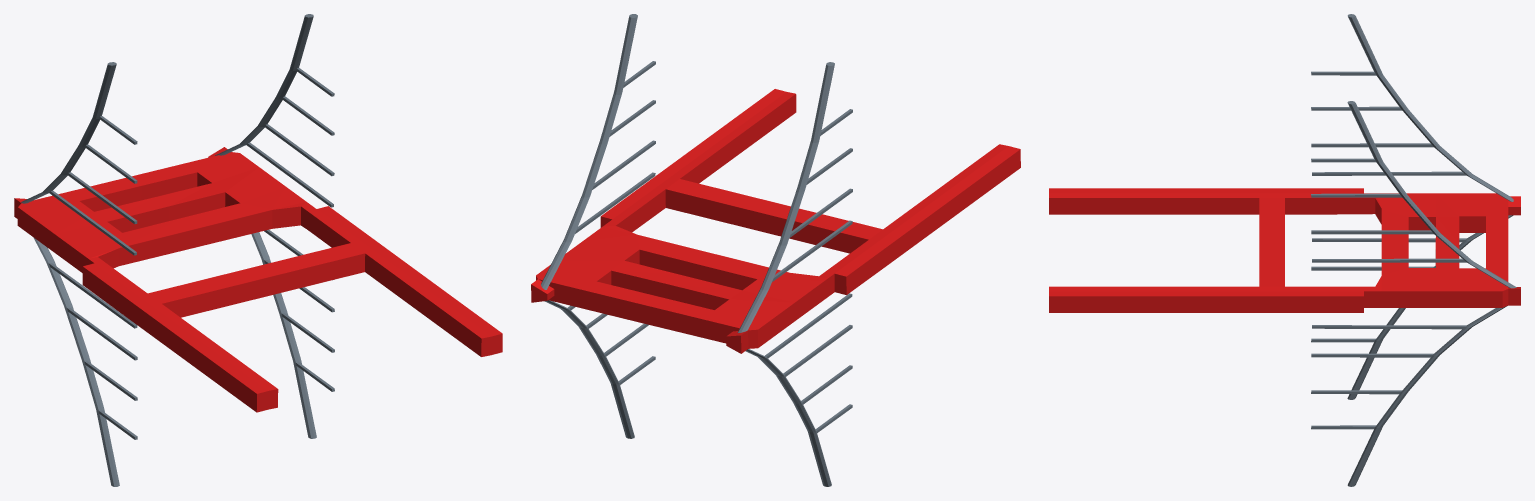
The model's file is bridge-suspended-middle-link.obj.
The picture shows the model from 3 angles, left to right: view 1: azimuth 30°, elevation 25°; view 2: azimuth 150°, elevation 25°; view 3: azimuth 270°, elevation 25°; orthographic projection. The views are drawn at different scales.
Visible parts, largest first — view 1: bridge-suspended-middle-link_Circle.013; view 2: bridge-suspended-middle-link_Circle.013; view 3: bridge-suspended-middle-link_Circle.013.
Part boxes in pixels (x1=…): bridge-suspended-middle-link_Circle.013: x1=14, y1=14, x2=502, y2=486; bridge-suspended-middle-link_Circle.013: x1=531, y1=14, x2=1020, y2=486; bridge-suspended-middle-link_Circle.013: x1=1049, y1=14, x2=1520, y2=486.
Bounding box in the file's own units: 9.69 × 15.89 × 17.81.
